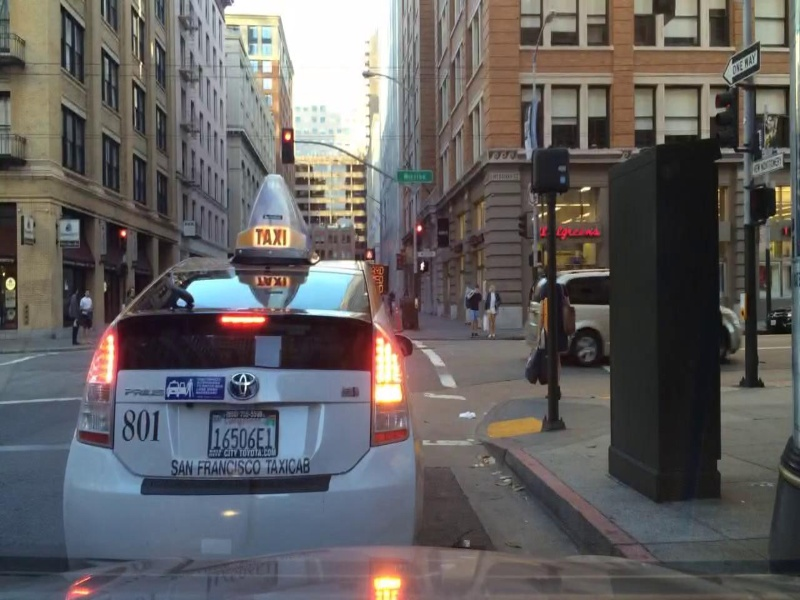car: (58, 247, 435, 565), (526, 266, 751, 348)
person: (62, 283, 82, 351), (482, 279, 501, 339), (465, 282, 483, 339), (79, 286, 95, 345)
